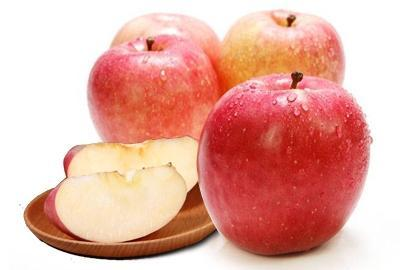apple: (196, 74, 372, 255), (87, 33, 220, 142), (44, 165, 188, 242), (215, 8, 344, 90), (60, 137, 200, 192), (107, 11, 222, 59)
